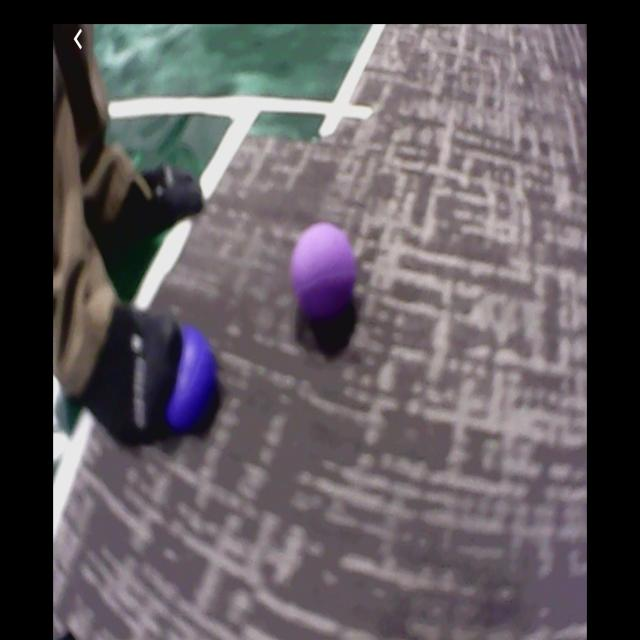ball: (291, 224, 358, 317), (165, 330, 215, 434)
